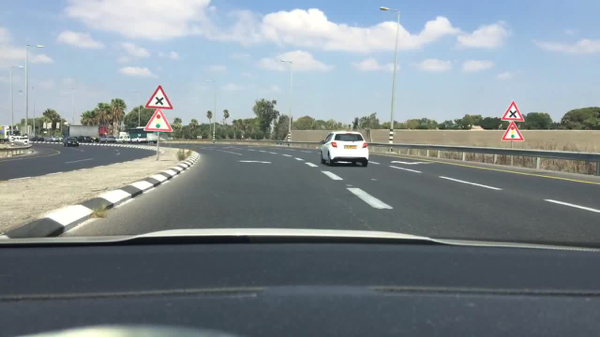car: (318, 130, 369, 166), (114, 134, 131, 144), (98, 135, 117, 143), (61, 140, 80, 148), (130, 137, 147, 143), (146, 134, 158, 142), (31, 136, 44, 143), (44, 137, 59, 143), (79, 136, 93, 142), (68, 135, 80, 140), (56, 137, 63, 142), (94, 137, 98, 142)
traffic sign: (143, 110, 175, 133), (144, 85, 174, 109), (499, 101, 525, 122), (499, 124, 526, 143), (195, 134, 203, 140), (103, 131, 108, 135), (43, 130, 47, 133)
truck: (0, 125, 22, 143)
